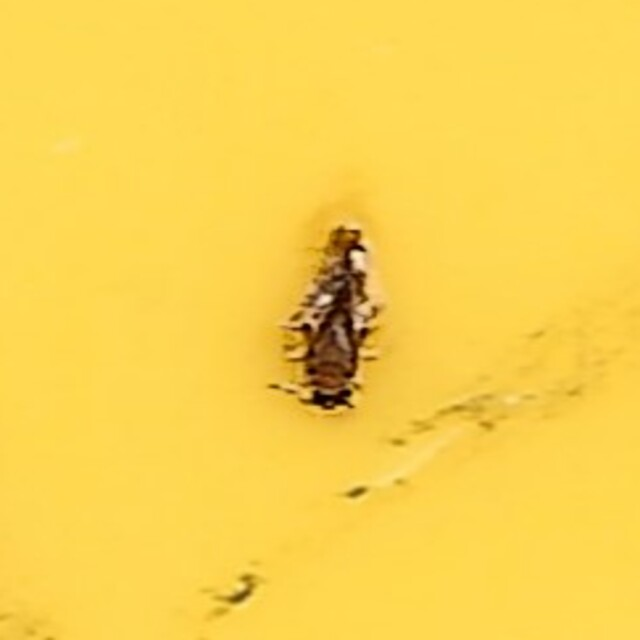Trichoptera: (263, 217, 377, 423)
